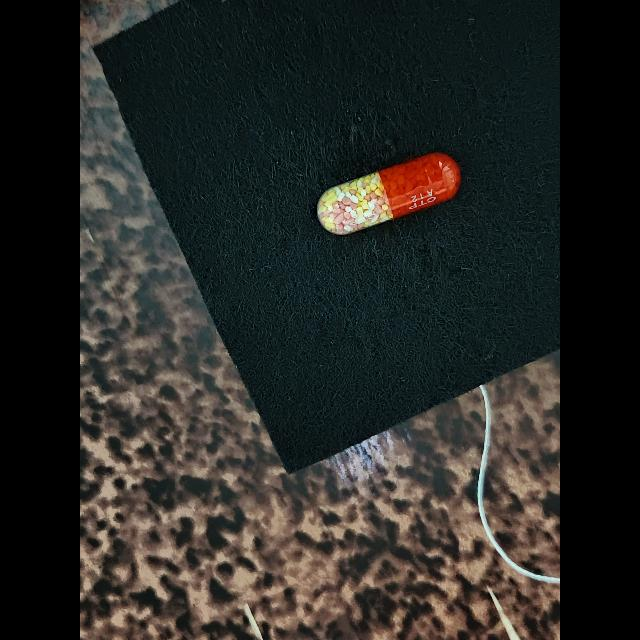Intact Capsule: (317, 153, 461, 235)
